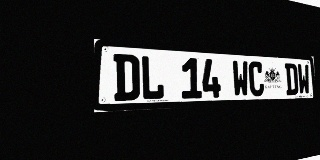1: (181, 57, 202, 99)
4: (201, 58, 221, 98)
C: (248, 61, 265, 96)
D: (114, 54, 140, 101), (285, 63, 299, 95)
L: (140, 55, 165, 100)
W: (232, 60, 249, 97), (297, 64, 310, 95)
